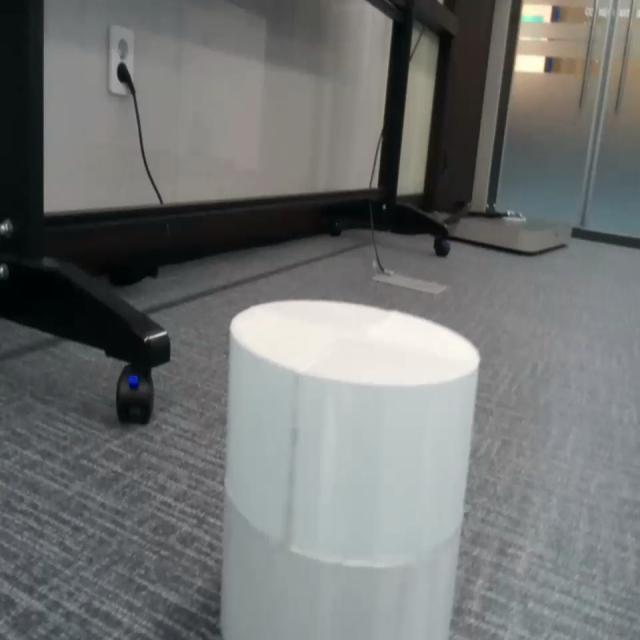cylinder: (222, 298, 481, 639)
